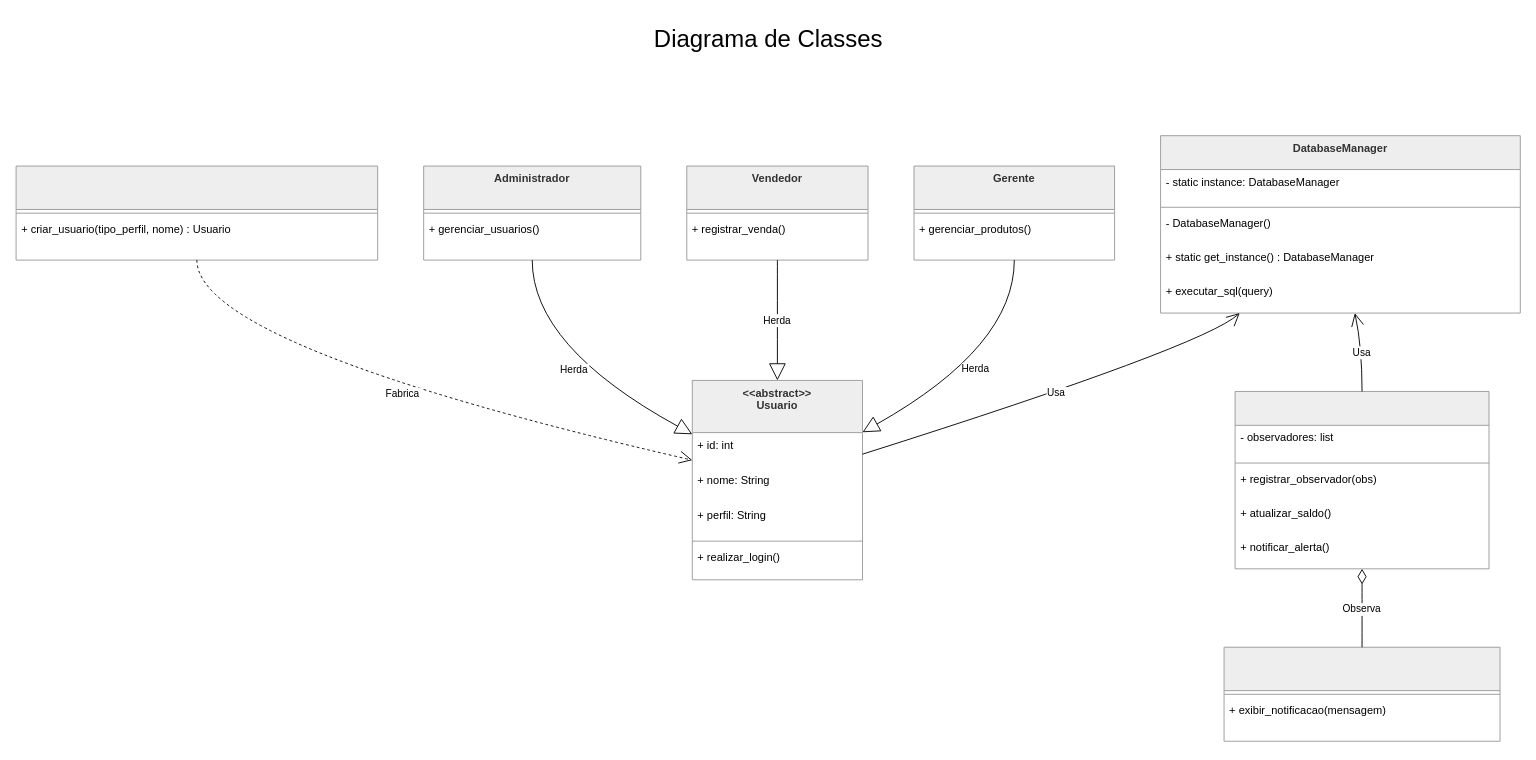
The diagram is 1536 pixels wide and 760 high, and some of its shapes have lost their labels. The shapes that lost their labels are listed below. From the top down, each one's box as (x1, y1, x2, y2) in pixels, then its label:
(15, 165, 378, 260): UsuarioFactory
(1234, 391, 1489, 569): GestorEstoque
(1223, 646, 1500, 741): PainelAlerta
